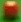red: (0, 0, 21, 22)
